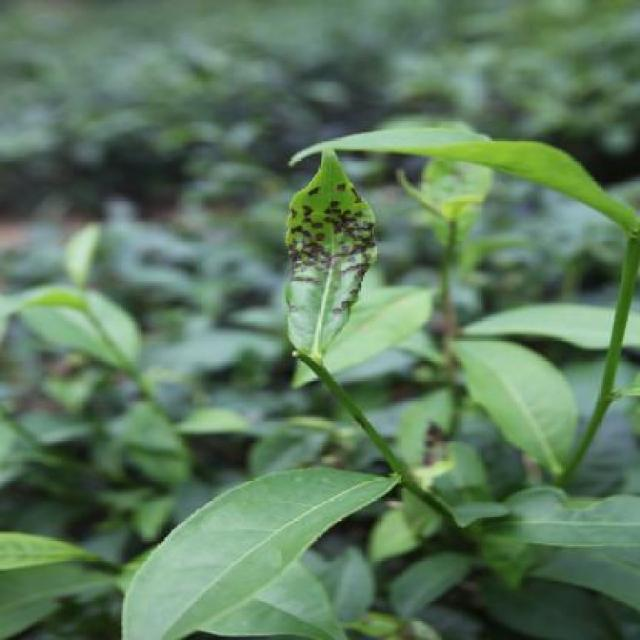Tea Mosquito bug infested leaf: (278, 146, 404, 362)
